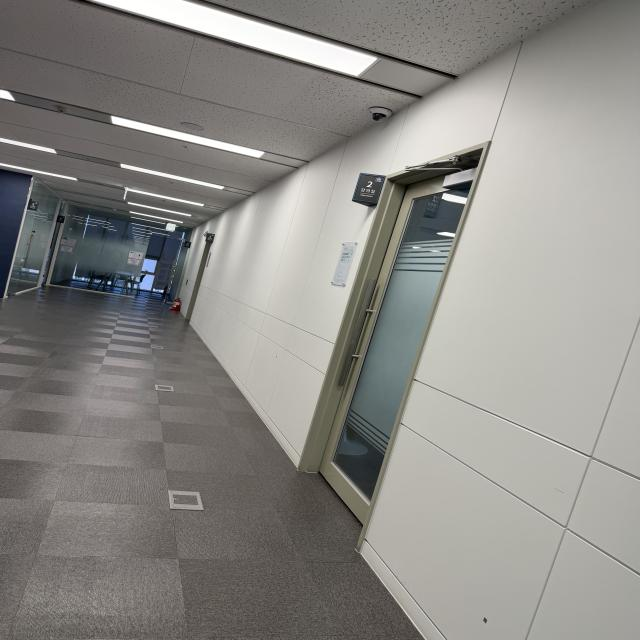sign: (360, 172, 378, 214)
